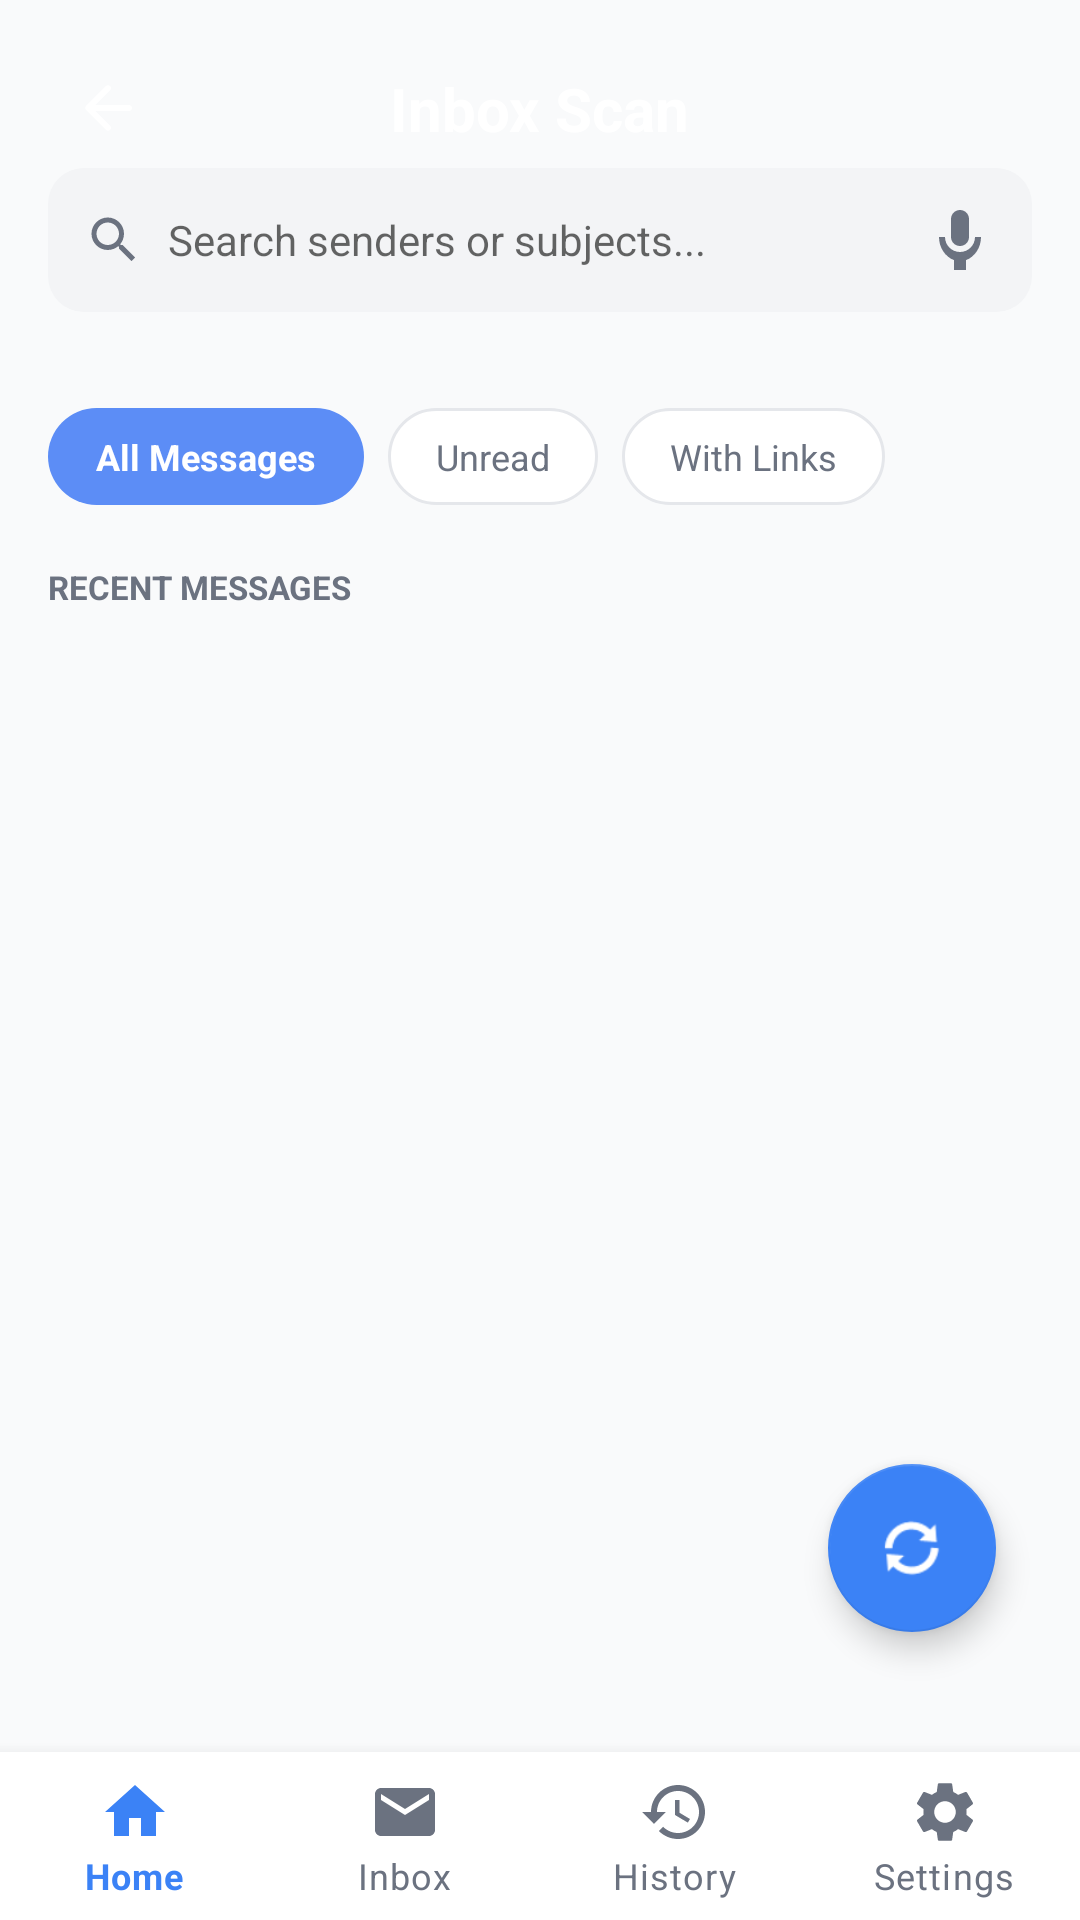

Locate icon controls on the screen. Image size 1080 × 1920, boxes as Rect(x1, y1, x2, y2).
Refresh: Rect(828, 1464, 996, 1632)
Voice Search: Rect(939, 210, 981, 270)
